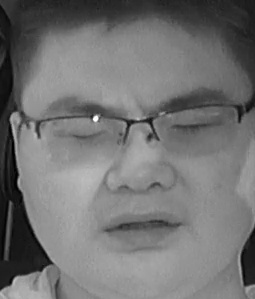blink: (171, 118, 211, 134), (68, 127, 106, 143)
glass: (38, 112, 129, 161), (150, 105, 237, 153)
mouth: (103, 208, 176, 246)
